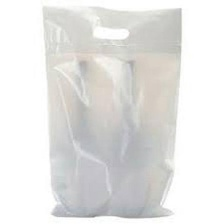plastic_bag: (39, 3, 187, 221)
